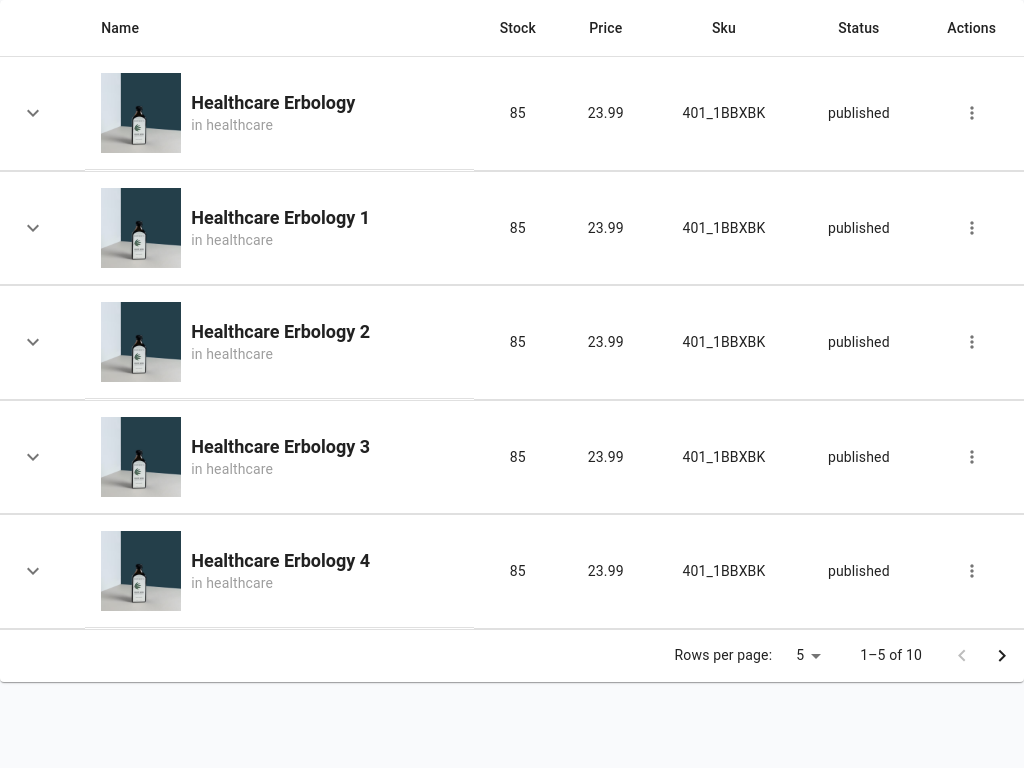
Test: Collapsible Table component › should render next page after click button next page on table
This screenshot has width=1036, height=768.
Click the button named "go to next page": (1002, 656) [982,636,1022,676]
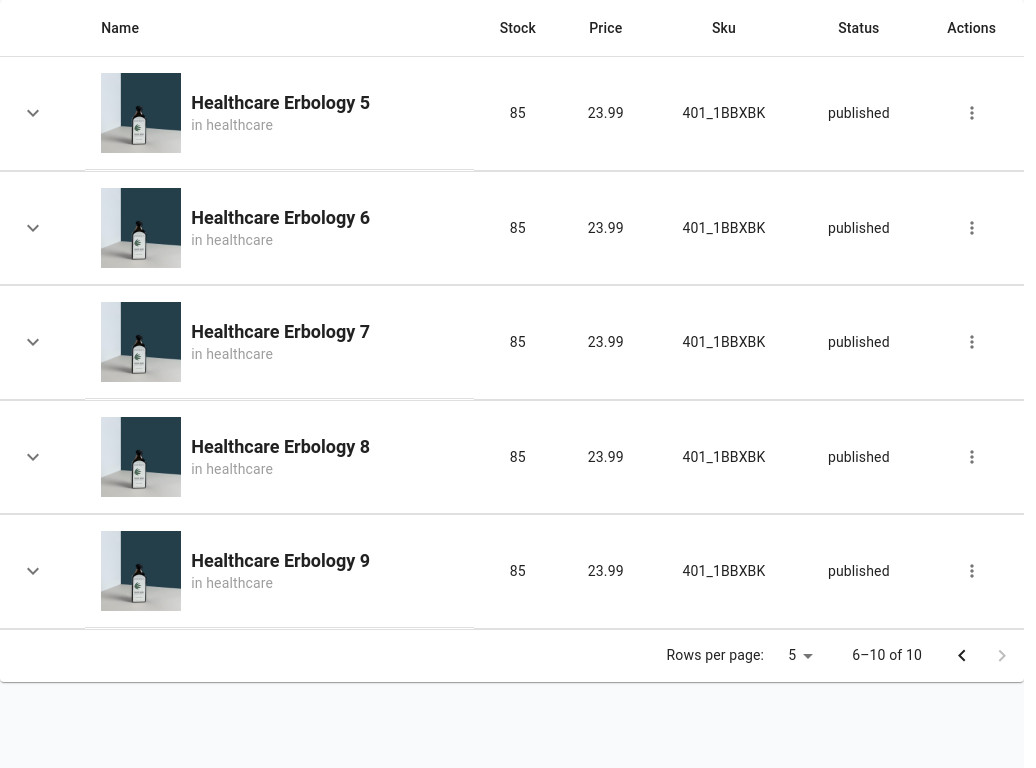
Now the text "6–10 of 10" is shown, box [852,646,922,666]
